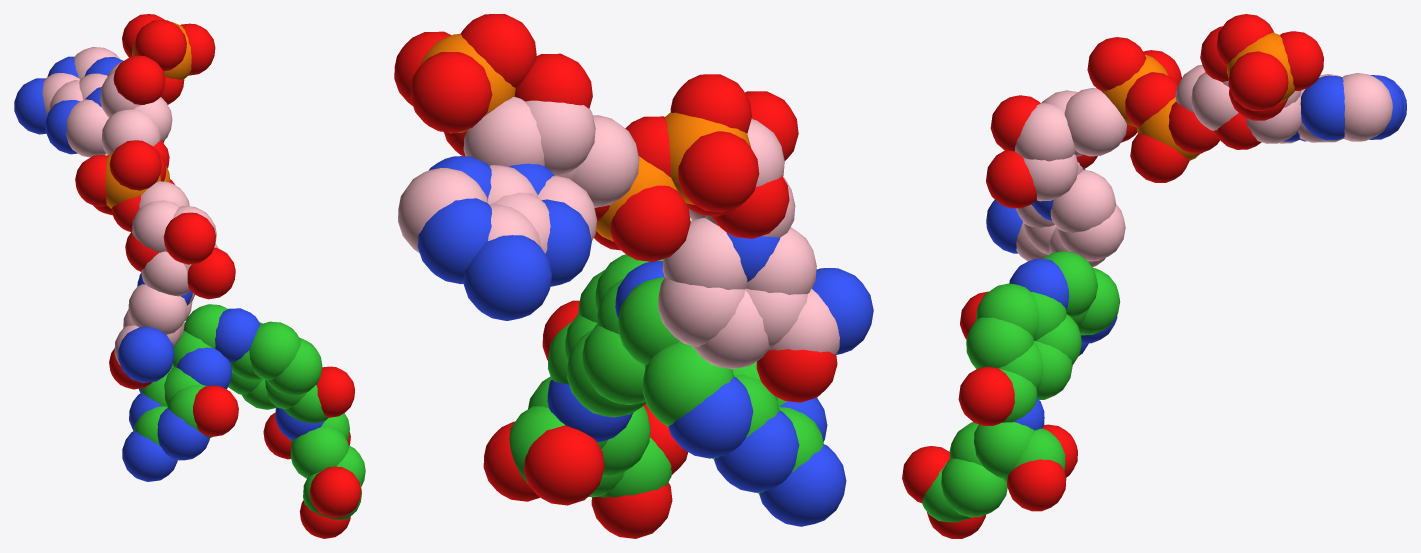
File: DHF + NADPH.dae
3 renders of one model, left to right at view 1: azimuth 30°, elevation 25°; view 2: azimuth 150°, elevation 25°; view 3: azimuth 270°, elevation 25°, orthographic. The views are drawn at different scales.
Parts seen in each view (by area): view 1: subnode_72, subnode_16, subnode_63, subnode_24, subnode_68, subnode_28, subnode_57, subnode_40, subnode_79, subnode_5, subnode_45, subnode_2 (+45 smaller); view 2: subnode_49, subnode_78, subnode_56, subnode_30, subnode_33, subnode_9, subnode_50, subnode_2, subnode_10, subnode_0, subnode_75, subnode_41 (+50 smaller); view 3: subnode_59, subnode_25, subnode_75, subnode_51, subnode_77, subnode_21, subnode_15, subnode_62, subnode_52, subnode_31, subnode_23, subnode_57 (+35 smaller).
Boxes of the visible parts, x1,y1,x2,y2 form: subnode_72: (118,327,174,383); subnode_16: (249,321,300,380); subnode_63: (163,212,215,264); subnode_24: (290,427,348,478); subnode_68: (128,284,187,334); subnode_28: (309,466,361,517); subnode_57: (109,140,161,190); subnode_40: (113,55,165,104); subnode_79: (134,20,186,71); subnode_5: (193,385,238,436); subnode_45: (66,99,108,157); subnode_2: (122,431,177,481); subnode_49: (463,235,552,320); subnode_78: (410,52,492,133); subnode_56: (678,131,759,212); subnode_30: (523,425,604,505); subnode_33: (610,185,690,261); subnode_9: (642,342,733,426); subnode_50: (417,198,491,283); subnode_2: (759,444,846,526); subnode_10: (668,376,753,458); subnode_0: (714,410,799,492); subnode_75: (662,218,747,289); subnode_41: (463,96,544,166); subnode_59: (1064,88,1126,156); subnode_25: (941,458,1007,517); subnode_75: (1050,170,1115,232); subnode_51: (1342,73,1392,141); subnode_77: (1228,51,1288,110); subnode_21: (958,367,1014,425); subnode_15: (966,317,1033,368); subnode_62: (1015,103,1075,161); subnode_52: (1300,75,1344,140); subnode_31: (1007,459,1066,511); subnode_23: (974,422,1034,478); subnode_57: (1087,37,1146,90).
Bounding box in the file's own units: 15.35 × 27.09 × 24.92.
